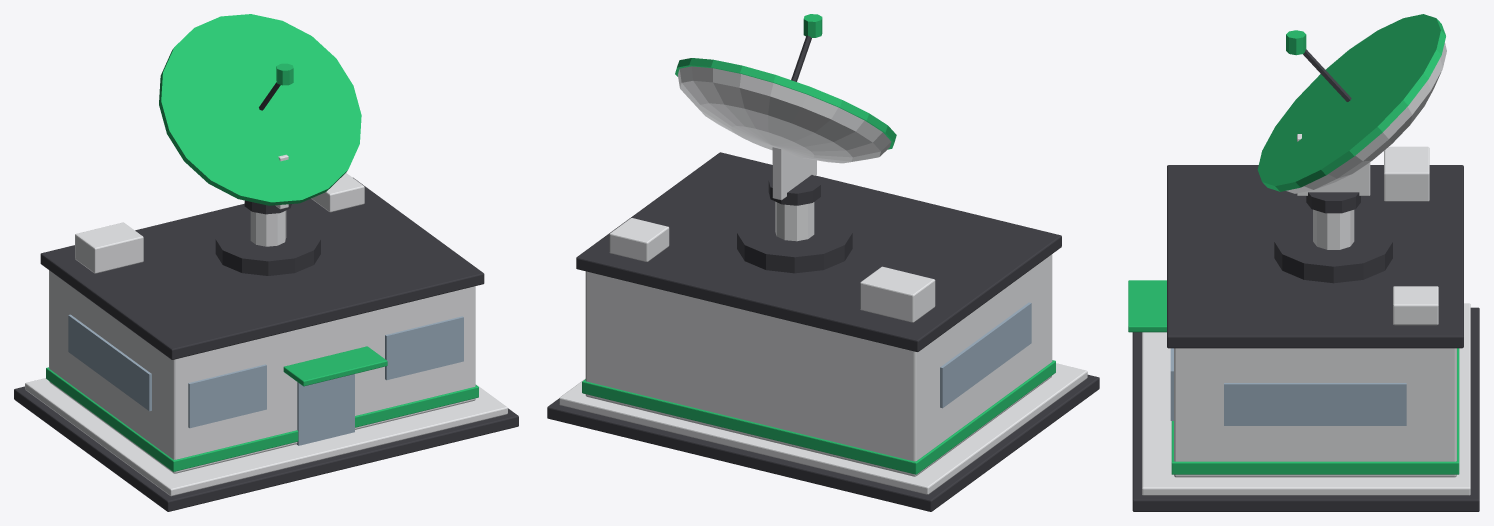
Rendered from antenna.glb.
3 renders of one model, left to right at view 1: azimuth 30°, elevation 25°; view 2: azimuth 150°, elevation 25°; view 3: azimuth 270°, elevation 25°, orthographic. The views are drawn at different scales.
Visible parts, largest first — view 1: antenna_body, spin_dish; view 2: antenna_body, spin_dish; view 3: antenna_body, spin_dish.
Boxes of the visible parts, <box> form: antenna_body: <box>14,173,518,511</box>; spin_dish: <box>159,14,361,214</box>; antenna_body: <box>547,152,1099,511</box>; spin_dish: <box>675,14,896,205</box>; antenna_body: <box>1128,146,1479,511</box>; spin_dish: <box>1257,14,1446,213</box>.
Bounding box in the file's own units: 10 × 9.5 × 7.7.
